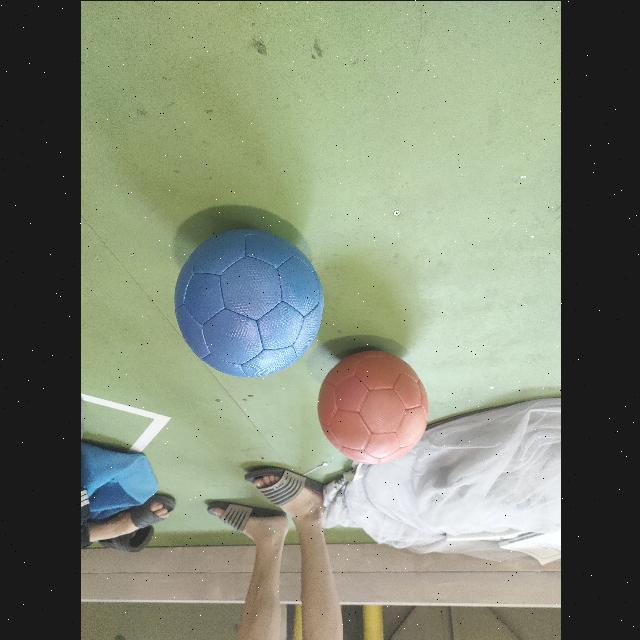B: (173, 223, 324, 377)
R: (316, 346, 429, 463)
